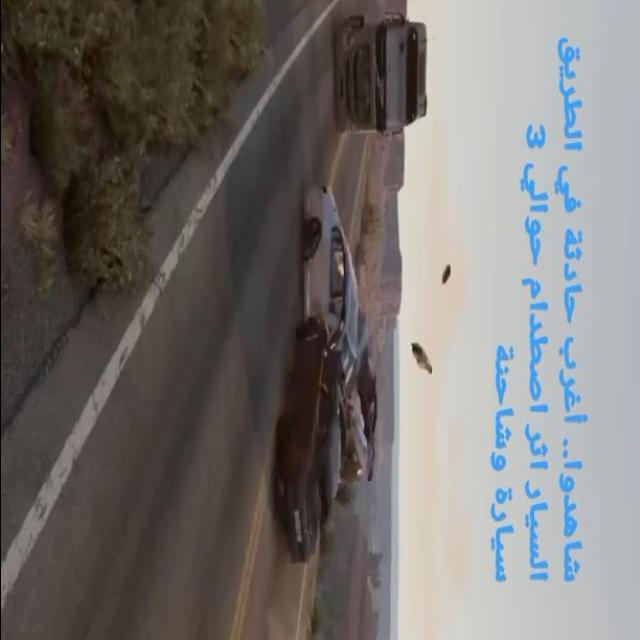accident: (275, 180, 383, 589)
